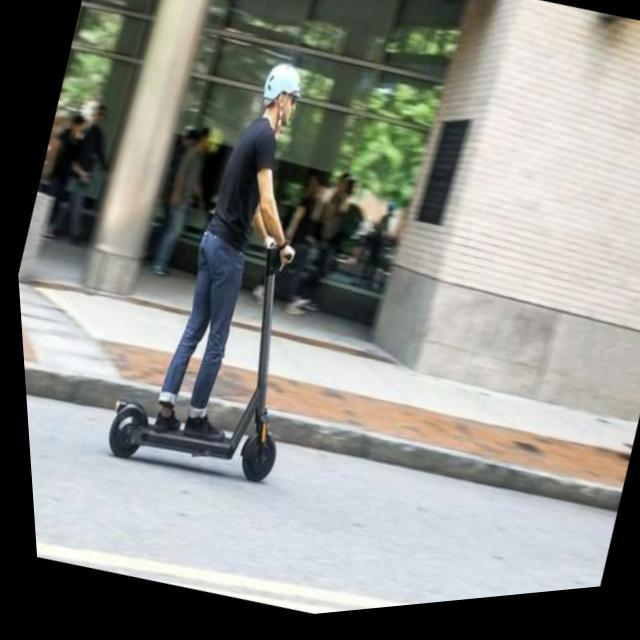Helmet: (253, 52, 306, 132)
